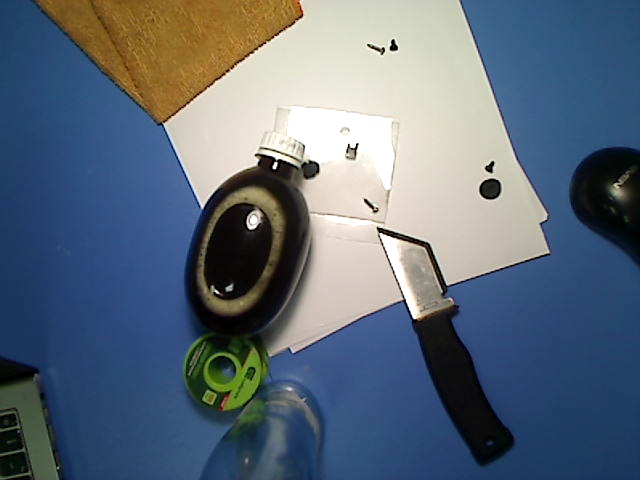plast_bottle: (181, 127, 322, 342)
